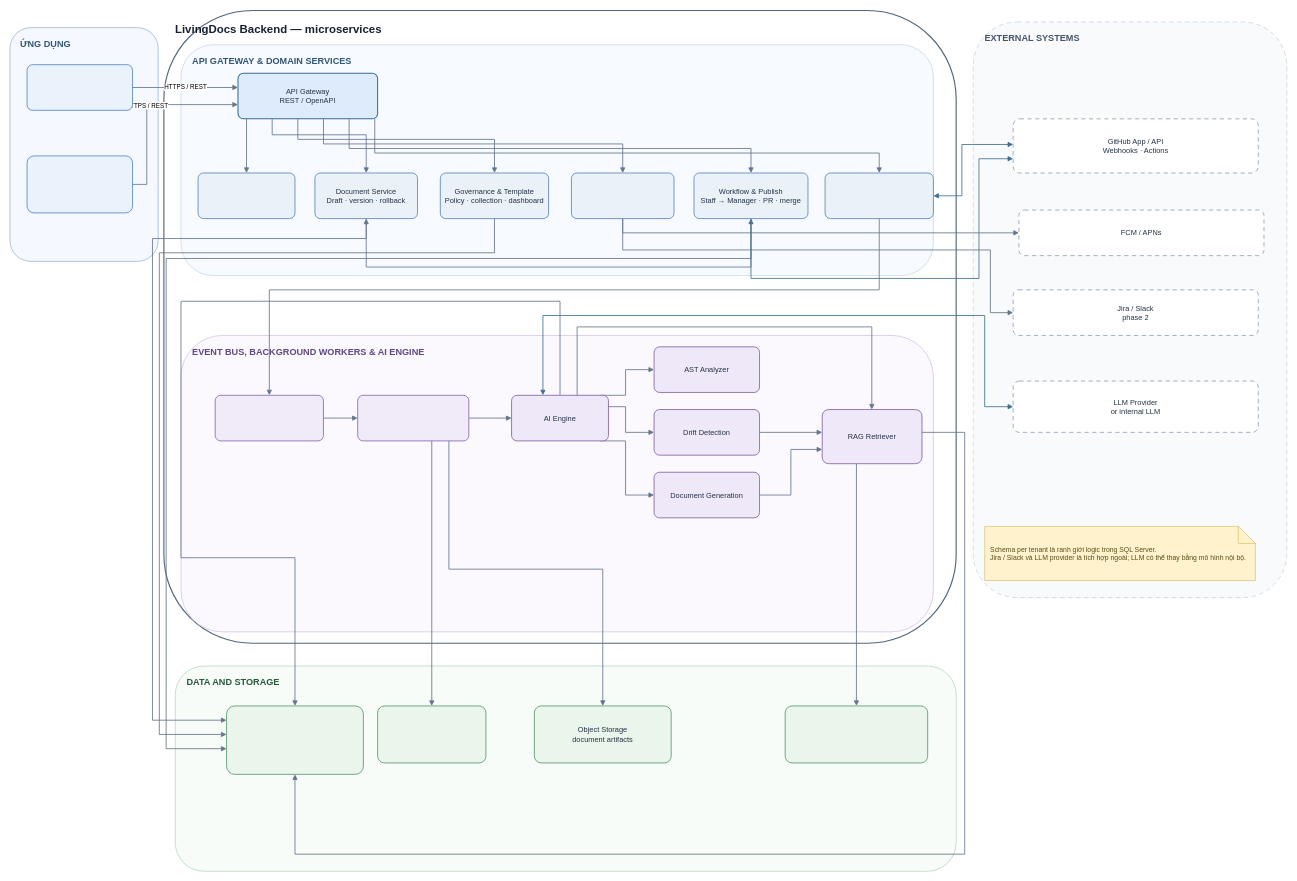
The diagram is 1297 pixels wide and 881 high, and some of its shapes have lost their labels. The shapes that lost their labels are listed below. From the top down, each one's centre as x and y in pixels, then its label:
At (x=79, y=87): "Web Client ReactJS".
At (x=79, y=184): "Mobile Client React Native Developer / Staff / Manager".
At (x=246, y=195): "Identity & RBAC OAuth2 / OIDC / JWT".
At (x=622, y=195): "Notification Service in-app · push".
At (x=878, y=195): "GitHub Integration OAuth · App · Webhook · Sync".
At (x=269, y=418): "Kafka Event Bus retry · DLQ".
At (x=413, y=418): "Background Workers".
At (x=295, y=740): "Microsoft SQL Server schema per tenant".
At (x=431, y=734): "Redis cache".
At (x=856, y=734): "Vector / Search Index".
